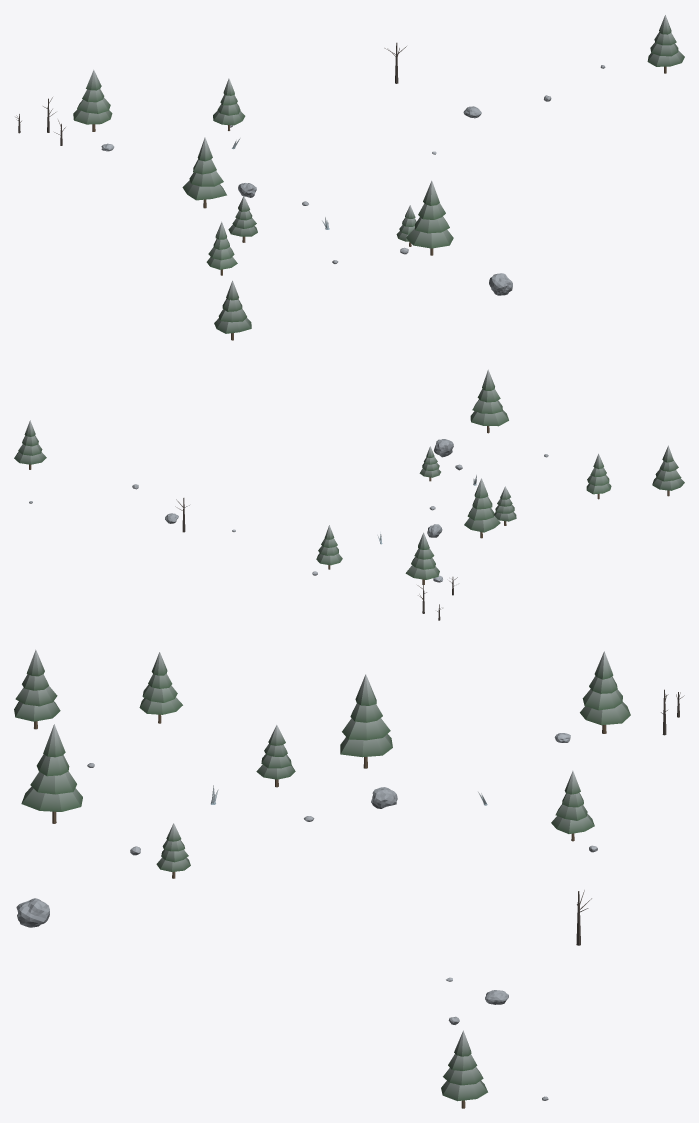
File: frost_land_scatter_c15_12.glb
3 renders of one model, top to bottom at view 1: azimuth 30°, elevation 25°; view 2: azimuth 150°, elevation 25°; view 3: azimuth 270°, elevation 25°, orthographic. The views are drawn at different scales.
Visible parts, largest first — view 1: frost_land_scatter_c15_12; view 2: frost_land_scatter_c15_12; view 3: frost_land_scatter_c15_12.
Part boxes in pixels (box(x1,y1,x2,y2)): frost_land_scatter_c15_12: box(15, 15, 684, 340); frost_land_scatter_c15_12: box(14, 369, 684, 620); frost_land_scatter_c15_12: box(14, 649, 684, 1108).
Size of the model in its own units: 144 by 27.08 by 100.
